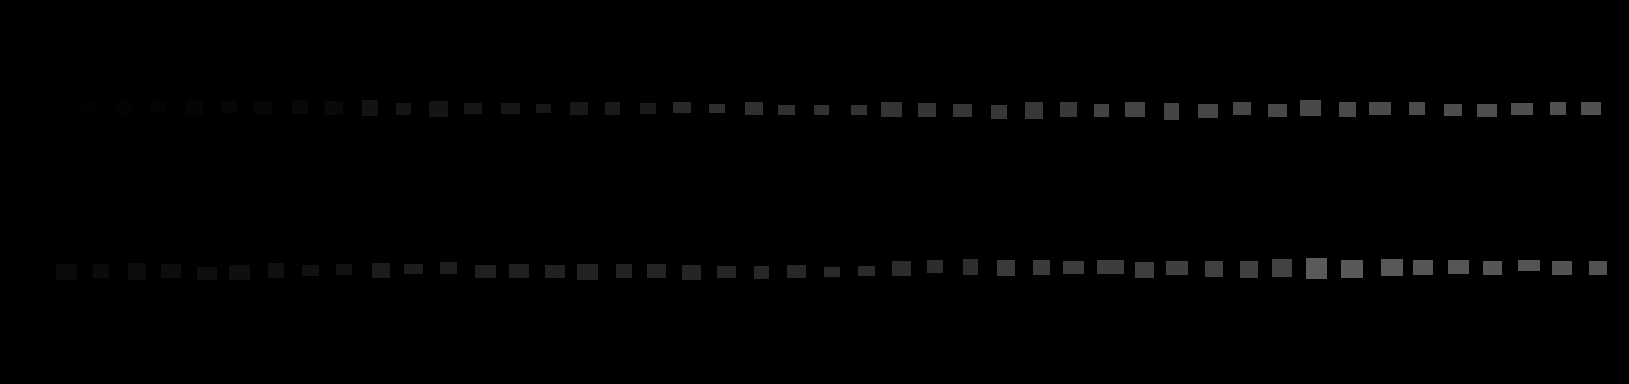light: (1306, 258, 1327, 279), (1341, 260, 1363, 278), (1272, 259, 1292, 277), (1097, 260, 1124, 274), (577, 264, 598, 280), (1300, 100, 1321, 116), (1381, 259, 1403, 276), (56, 264, 77, 280), (229, 265, 250, 280), (1166, 260, 1189, 275), (128, 263, 146, 280), (1134, 262, 1154, 278), (881, 102, 902, 117), (1025, 102, 1043, 119), (1240, 260, 1258, 278), (429, 101, 448, 117), (682, 265, 701, 280), (1125, 102, 1145, 117), (1369, 102, 1391, 115), (1205, 260, 1223, 277), (892, 260, 911, 276), (161, 264, 181, 278), (509, 264, 529, 278), (1198, 104, 1218, 118), (1552, 260, 1572, 275), (1483, 260, 1502, 275), (1413, 260, 1433, 275), (1511, 103, 1533, 115), (475, 265, 496, 278), (1063, 260, 1084, 274), (1448, 260, 1469, 274), (362, 100, 378, 116), (372, 263, 390, 278), (1060, 102, 1077, 117), (997, 260, 1015, 276), (1164, 103, 1179, 120), (647, 264, 666, 278), (1588, 260, 1607, 275), (197, 267, 217, 280), (545, 265, 565, 278), (953, 104, 972, 117), (1477, 104, 1497, 117), (1581, 102, 1601, 115), (186, 100, 203, 115), (1339, 102, 1356, 117), (325, 101, 343, 115), (918, 103, 936, 117), (1033, 260, 1050, 275), (253, 101, 272, 114), (787, 265, 806, 278), (1269, 104, 1287, 117), (268, 263, 284, 278), (570, 102, 588, 115), (745, 102, 763, 115), (1233, 102, 1251, 115), (717, 266, 736, 278), (292, 100, 308, 114), (94, 264, 109, 278), (616, 264, 632, 278), (963, 259, 978, 275), (991, 105, 1007, 119), (1518, 260, 1540, 271), (501, 103, 520, 114), (1409, 102, 1425, 115), (1444, 104, 1462, 116), (117, 101, 132, 115), (605, 102, 620, 115), (1550, 102, 1566, 115), (440, 262, 457, 274), (927, 260, 943, 273), (464, 103, 482, 114), (673, 102, 691, 113), (754, 266, 769, 279), (1094, 104, 1109, 117), (81, 101, 97, 113), (221, 101, 237, 113), (396, 103, 411, 115), (404, 264, 423, 274), (302, 265, 319, 276), (336, 264, 352, 275), (151, 101, 165, 113), (640, 103, 656, 114), (824, 267, 840, 277), (858, 266, 875, 276), (778, 105, 795, 115), (851, 105, 867, 115), (49, 101, 63, 112), (709, 104, 725, 113), (814, 105, 829, 115), (536, 104, 551, 113)
